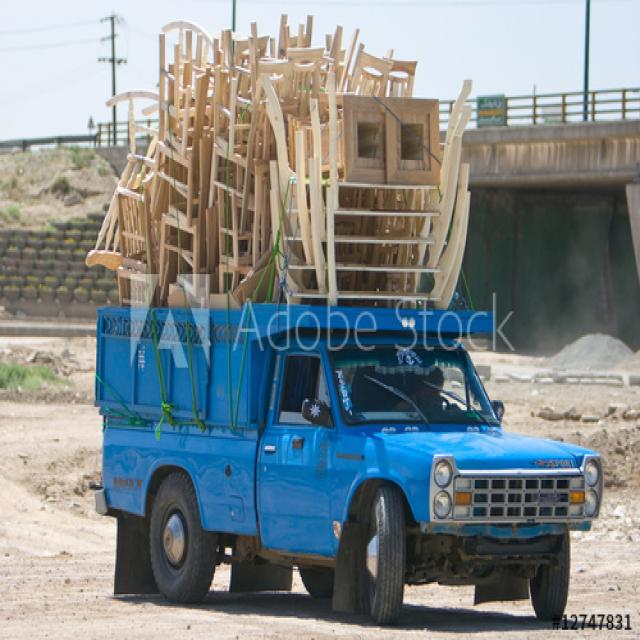overloaded_truck: (49, 35, 568, 520)
